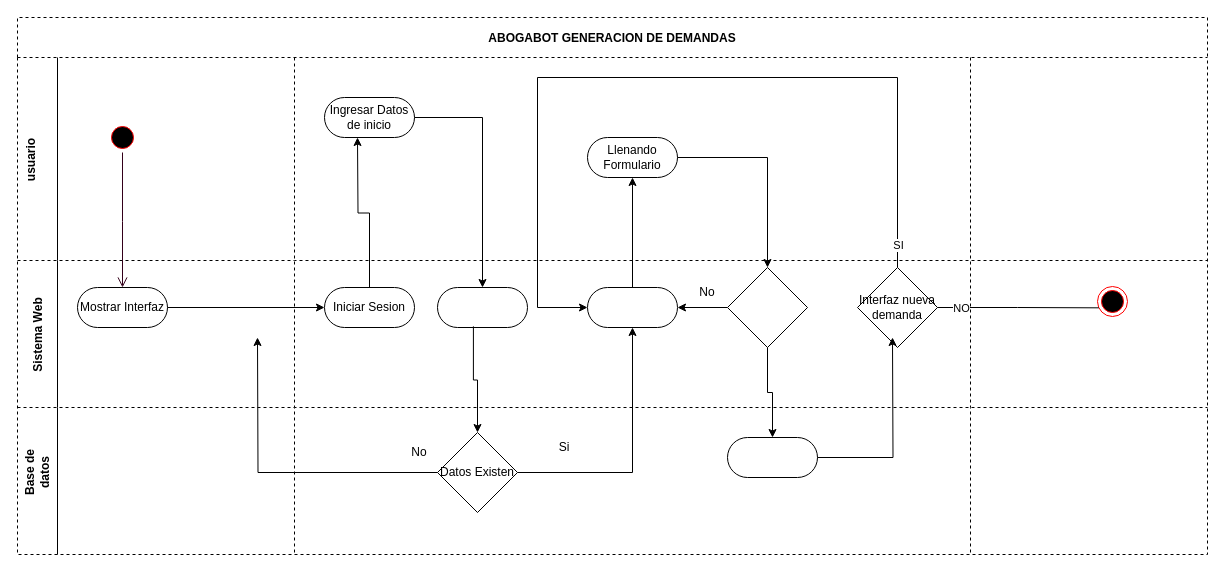
Image size: 1225x572. Some labels were removed from this diagram. Here are the shapes that lost their labels. From the top down, the centre of each, then its label:
the point at 482,307: Comprobando Datos
the point at 632,307: Mostrar Interfaz Formulario
the point at 767,307: Datos correctos
the point at 772,457: Guardando
